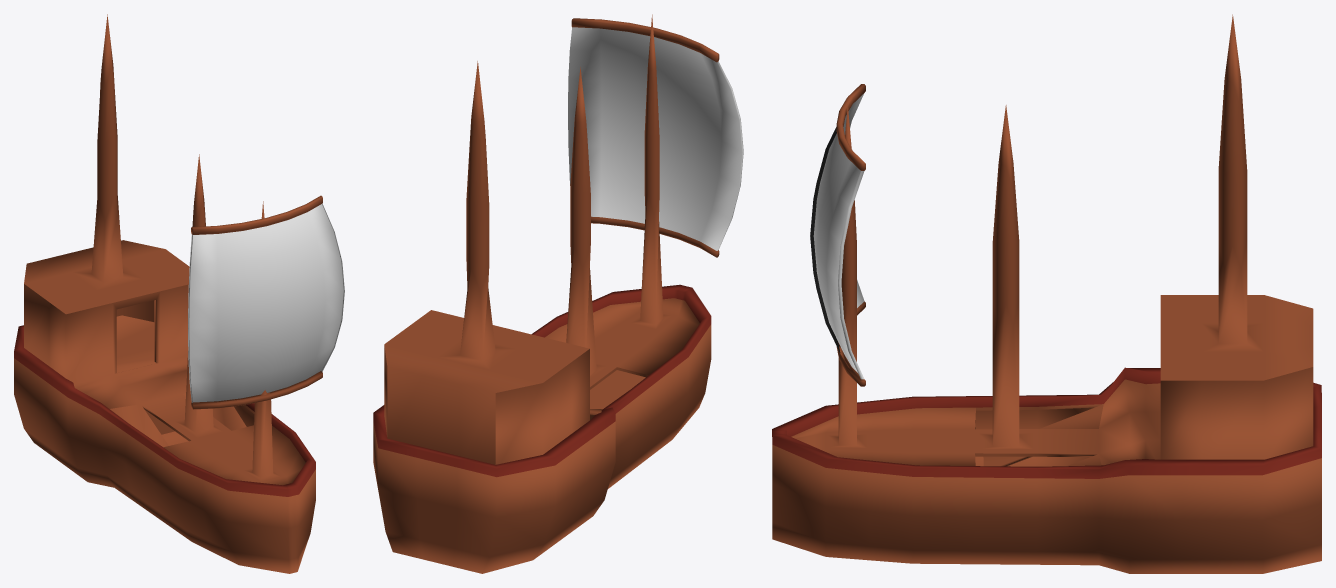
Rendered from Boat3.fbx.
3 renders of one model, left to right at view 1: azimuth 30°, elevation 25°; view 2: azimuth 150°, elevation 25°; view 3: azimuth 270°, elevation 25°, orthographic. The views are drawn at different scales.
Visible parts, largest first — view 1: Cube, Sphere, Cube.002, Cube.001; view 2: Cube, Sphere, Cube.002, Cube.001; view 3: Cube, Cube.002, Sphere, Cube.001.
Part boxes in pixels (x1,y1,x2,y2): Cube: [14, 154, 315, 573]; Sphere: [188, 195, 344, 409]; Cube.002: [24, 14, 189, 314]; Cube.001: [110, 393, 254, 447]; Cube: [373, 14, 711, 573]; Sphere: [568, 18, 743, 257]; Cube.002: [384, 61, 589, 464]; Cube.001: [590, 367, 648, 414]; Cube: [772, 104, 1321, 573]; Cube.002: [1160, 14, 1313, 380]; Sphere: [810, 84, 865, 386]; Cube.001: [975, 404, 1103, 466].
Size of the model in its own units: 2347 by 5830 by 5555.
